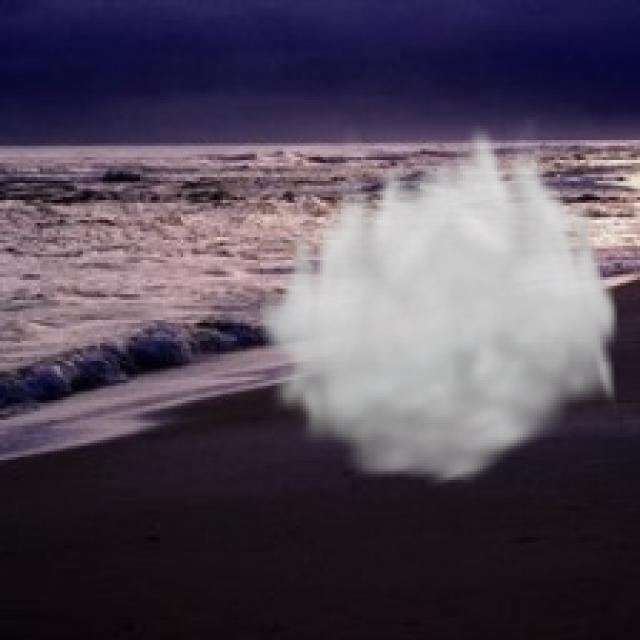smoke: (251, 114, 623, 492)
